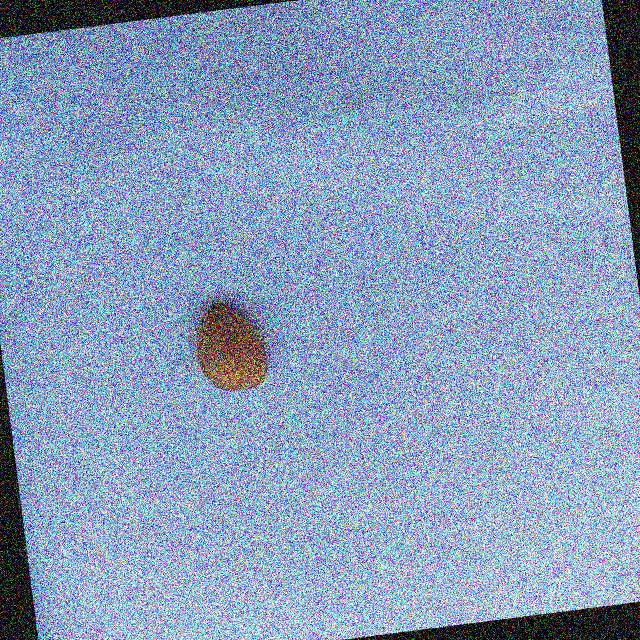grade2: (187, 294, 279, 399)
